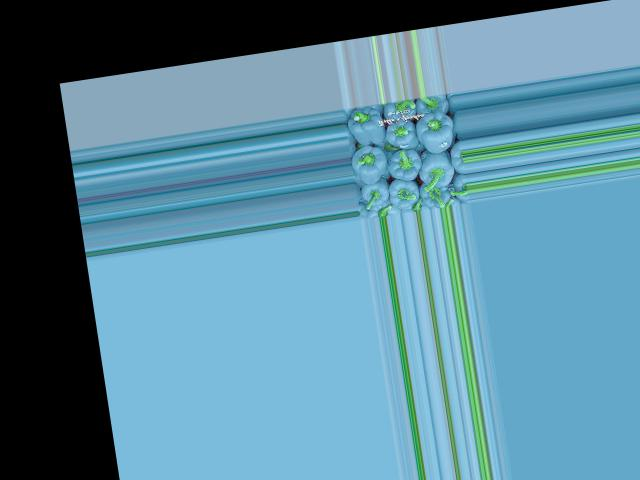bell_pepper: (413, 92, 454, 121)
